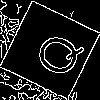Q: (24, 25, 87, 83)
